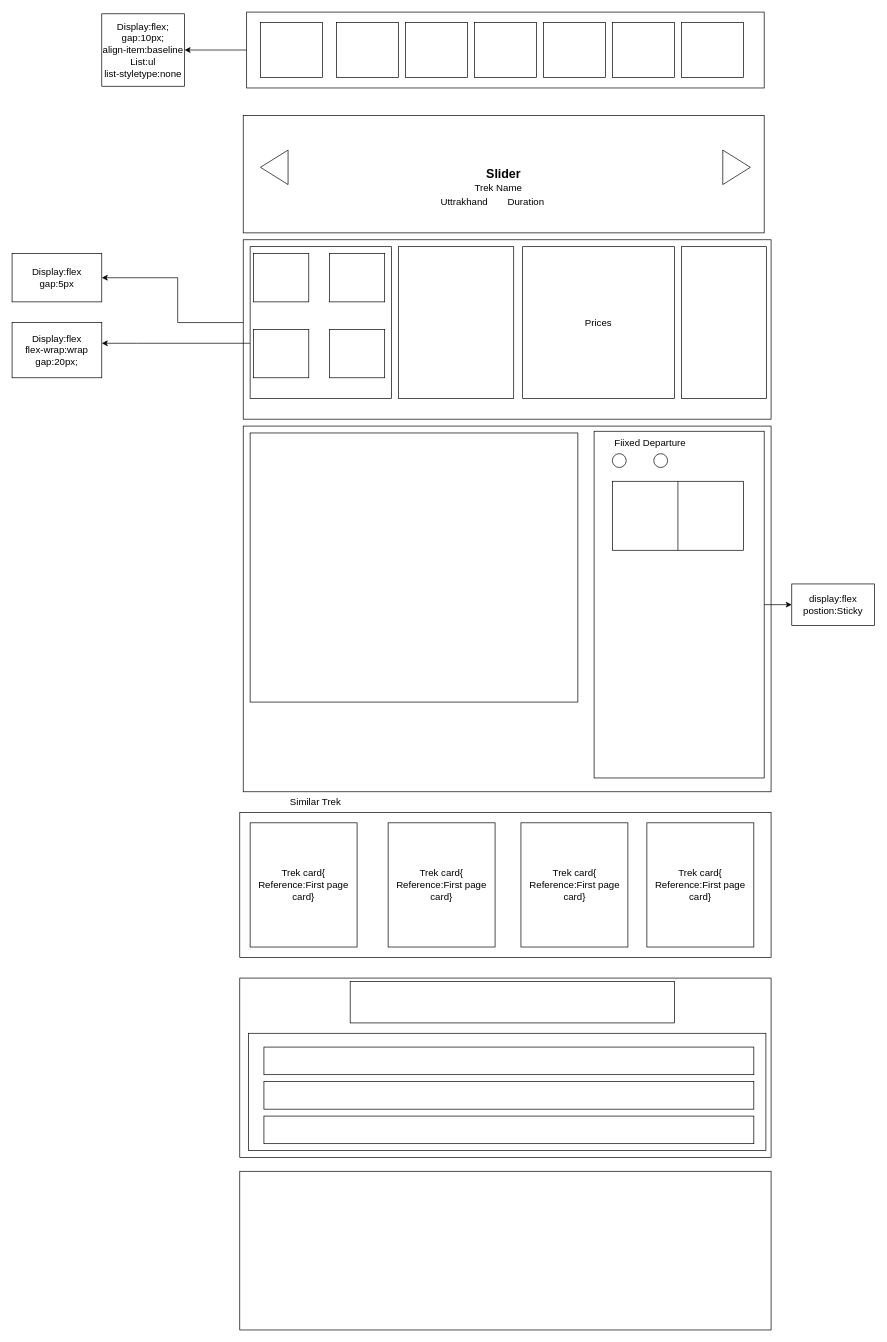
Some shapes in this 887 by 1342 pixel diagram are drawn without their labels. The shapes that lost their labels are listed below. From the top down, each one's box as (x1, y1, x2, y2) in pixels, then its label:
(398, 246, 514, 398): Description
(681, 246, 767, 398): Contact
(249, 432, 578, 702): Overview
(349, 981, 674, 1023): Frequently Asked Question
(239, 1171, 771, 1330): Footer
